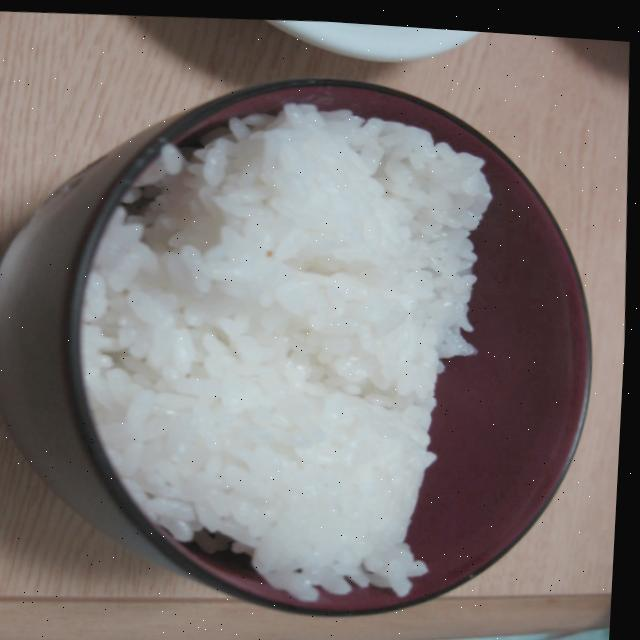米饭主食: (0, 34, 636, 640)
